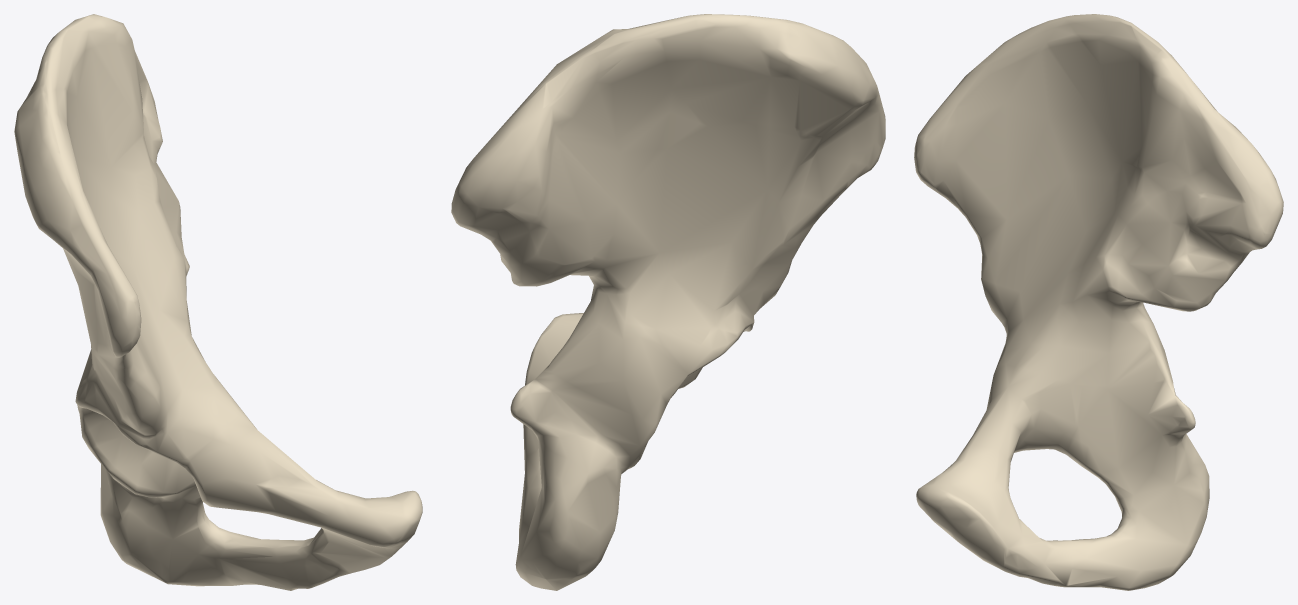
File: hip-bone-r.glb
3 renders of one model, left to right at view 1: azimuth 30°, elevation 25°; view 2: azimuth 150°, elevation 25°; view 3: azimuth 270°, elevation 25°, orthographic. The views are drawn at different scales.
Parts seen in each view (by area): view 1: Hip bone.r; view 2: Hip bone.r; view 3: Hip bone.r.
Part boxes in pixels (x1=…): Hip bone.r: x1=14, y1=14, x2=422, y2=590; Hip bone.r: x1=451, y1=14, x2=885, y2=590; Hip bone.r: x1=914, y1=14, x2=1283, y2=590.
Bounding box in the file's own units: 0.132 × 0.2146 × 0.1428.
